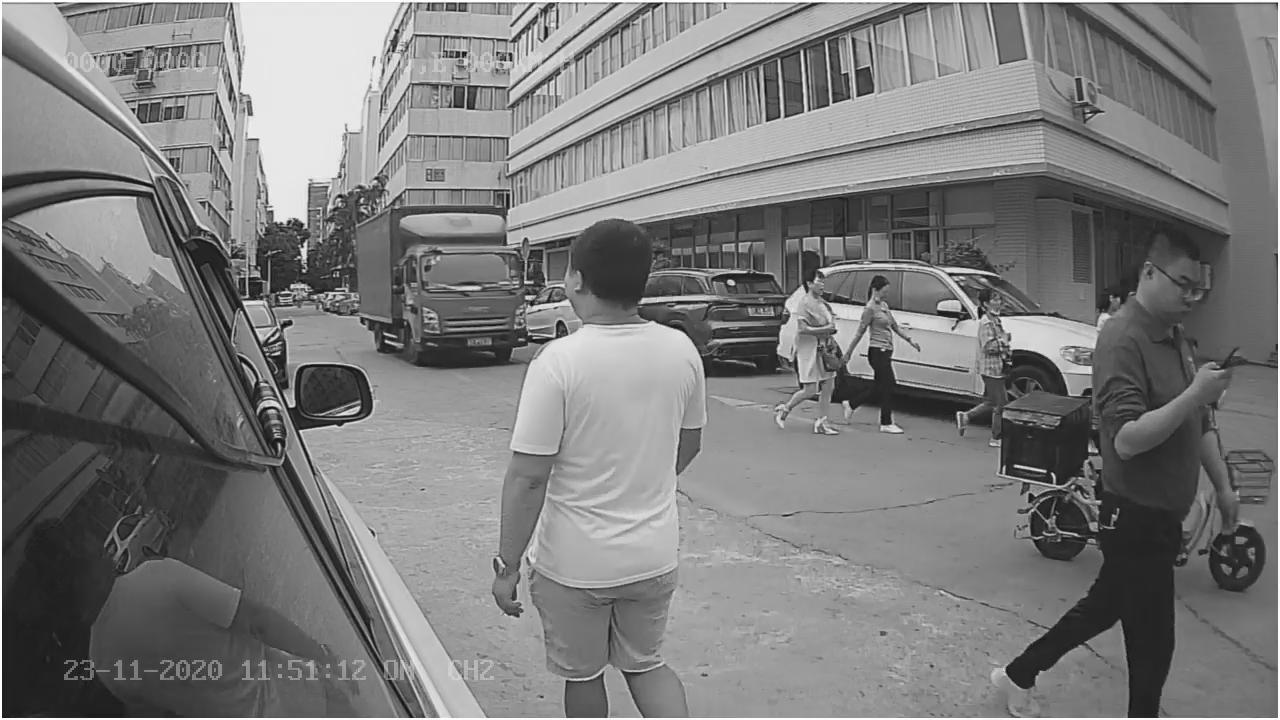person: (500, 203, 711, 534), (773, 266, 855, 439)
